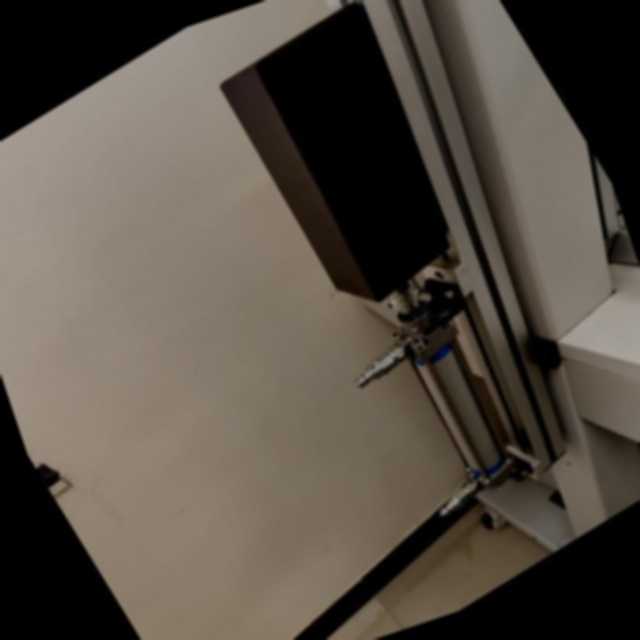load: (159, 0, 640, 571)
